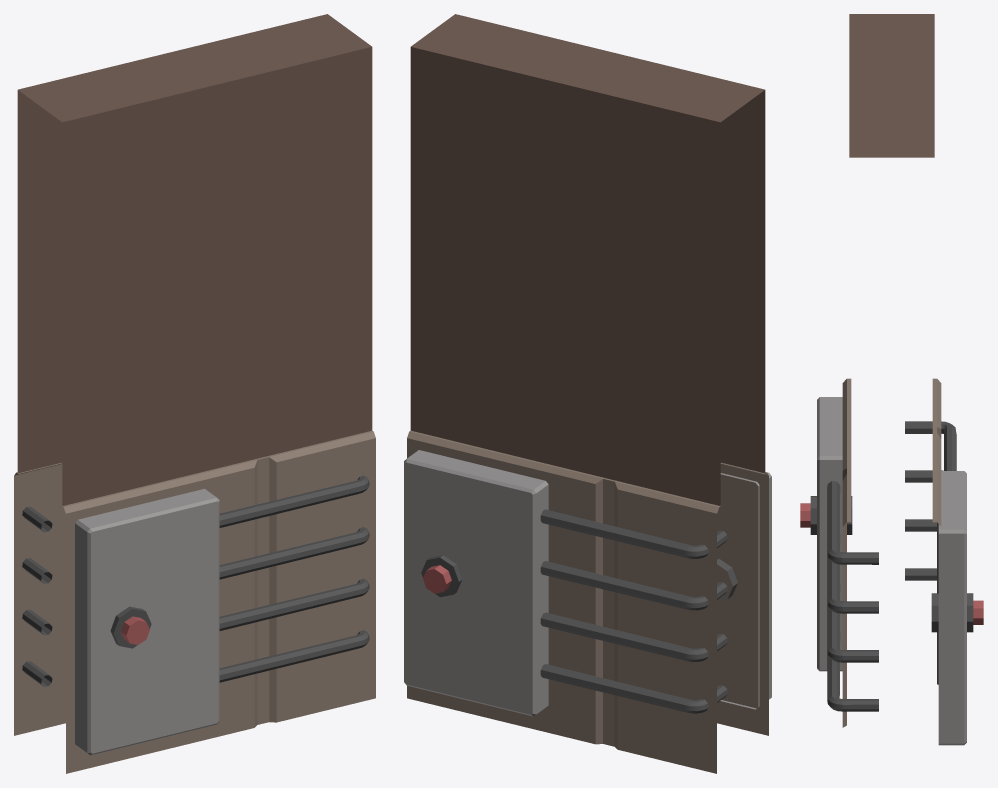
File: pared_4.fbx
The picture shows the model from 3 angles, left to right: view 1: azimuth 30°, elevation 25°; view 2: azimuth 150°, elevation 25°; view 3: azimuth 270°, elevation 25°; orthographic projection. The views are drawn at different scales.
Parts seen in each view (by area): view 1: base (×2), zocalo (×2), metal_box, conection_2, conection_4, conection_1, conection_3, base_bulb, bulb; view 2: base (×2), zocalo (×2), metal_box (×2), conection_2, conection_4, conection_3, conection_1, base_bulb, bulb; view 3: metal_box (×2), base (×2), zocalo (×2), conection_1 (×2), conection_4 (×2), conection_3 (×2), conection_2 (×2), base_bulb (×2).
Boxes of the visible parts, bbox=[...] form: base (×2): bbox=[17, 14, 372, 505]; zocalo (×2): bbox=[14, 430, 375, 773]; metal_box: bbox=[75, 488, 219, 755]; conection_2: bbox=[219, 527, 369, 579]; conection_4: bbox=[219, 630, 369, 682]; conection_1: bbox=[219, 475, 369, 527]; conection_3: bbox=[219, 578, 369, 630]; base_bulb: bbox=[110, 606, 151, 648]; bulb: bbox=[121, 616, 149, 644]; base (×2): bbox=[410, 14, 765, 505]; zocalo (×2): bbox=[407, 430, 768, 773]; metal_box (×2): bbox=[404, 450, 771, 716]; conection_2: bbox=[540, 561, 727, 610]; conection_4: bbox=[540, 664, 727, 713]; conection_3: bbox=[540, 612, 727, 661]; conection_1: bbox=[540, 509, 727, 558]; base_bulb: bbox=[421, 555, 462, 597]; bulb: bbox=[423, 565, 451, 593]; metal_box (×2): bbox=[817, 397, 966, 745]; base (×2): bbox=[849, 14, 934, 157]; zocalo (×2): bbox=[842, 378, 941, 727]; conection_1 (×2): bbox=[827, 421, 956, 564]; conection_4 (×2): bbox=[827, 568, 936, 711]; conection_3 (×2): bbox=[827, 519, 936, 662]; conection_2 (×2): bbox=[827, 470, 943, 613]; base_bulb (×2): bbox=[810, 496, 973, 632].
Bounding box in the file's own units: 1 × 2 × 0.5392.
